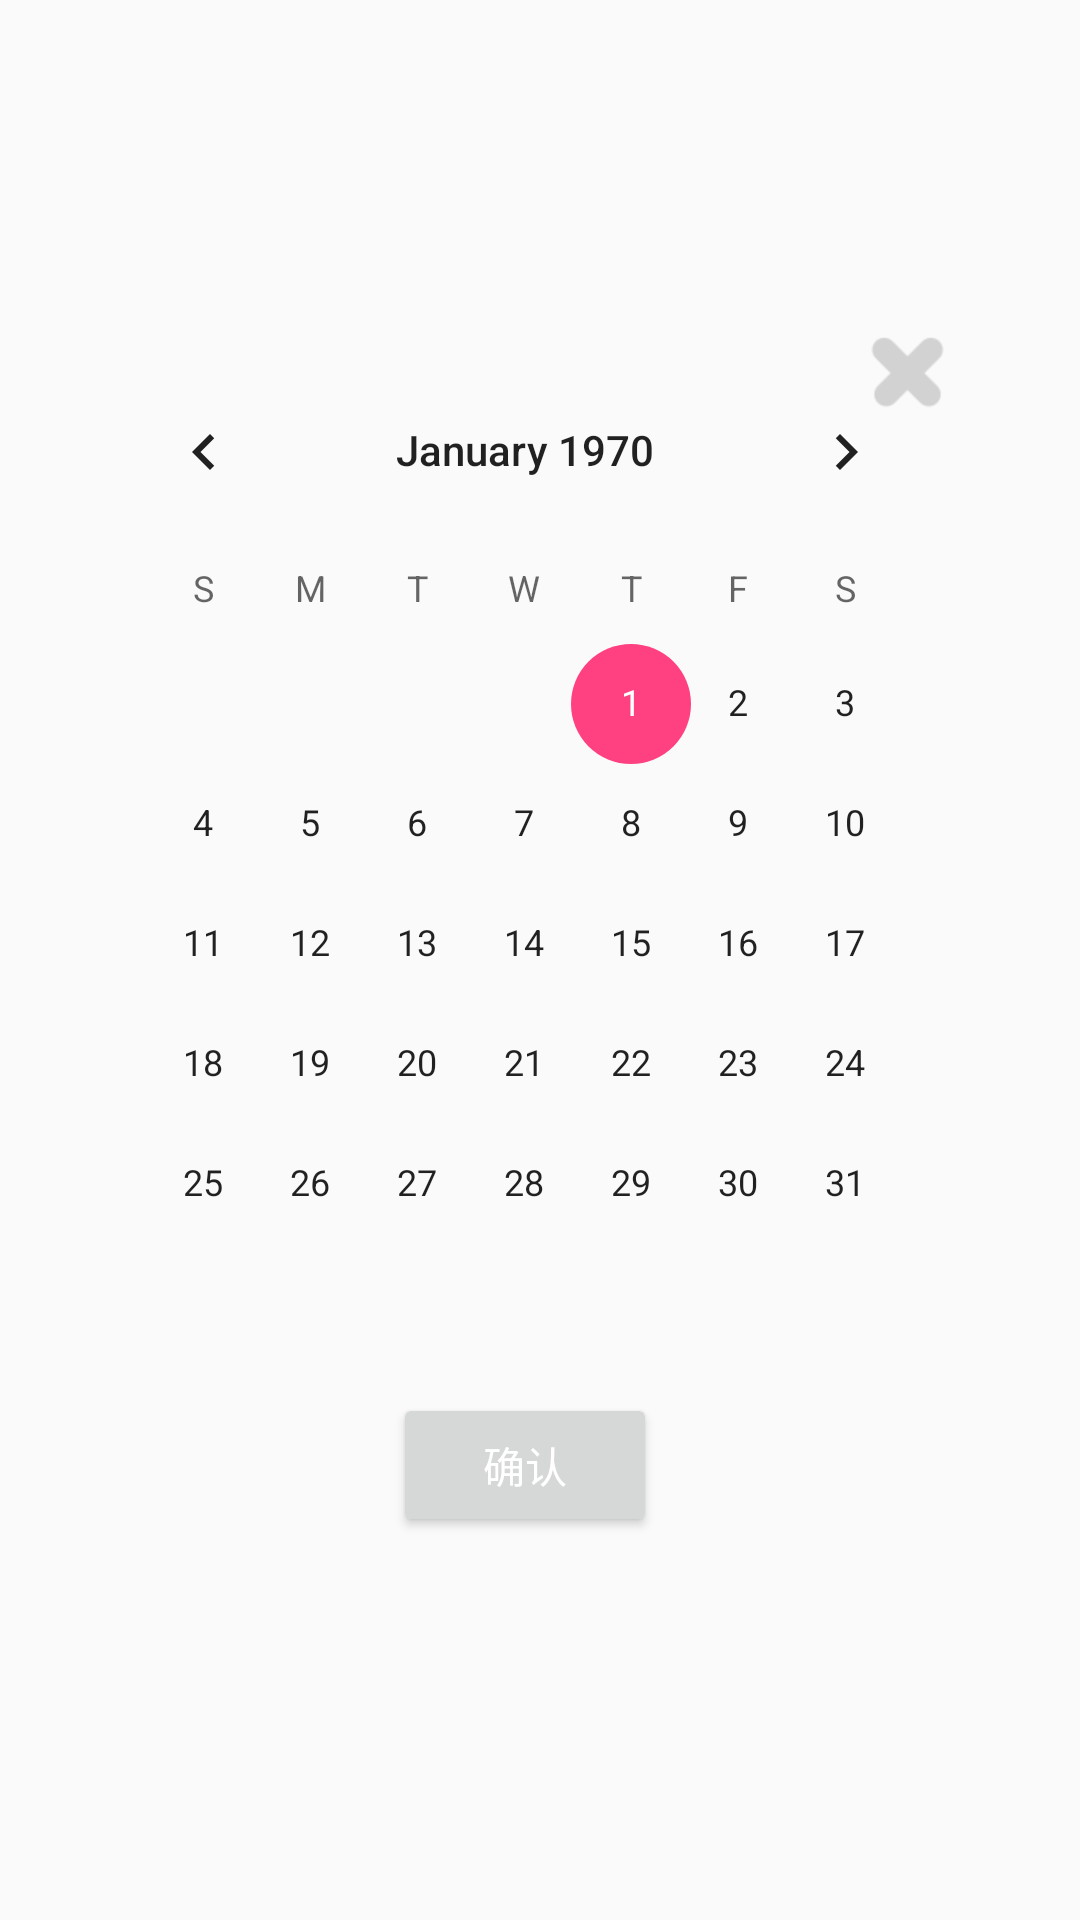

Named icons in this screenshot (1080 × 1920) and their centers, (x=x, y=y):
close: (x=907, y=372)
